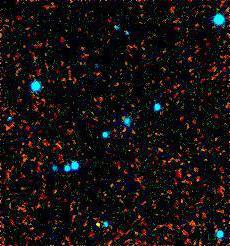star: (79, 213, 109, 243)
